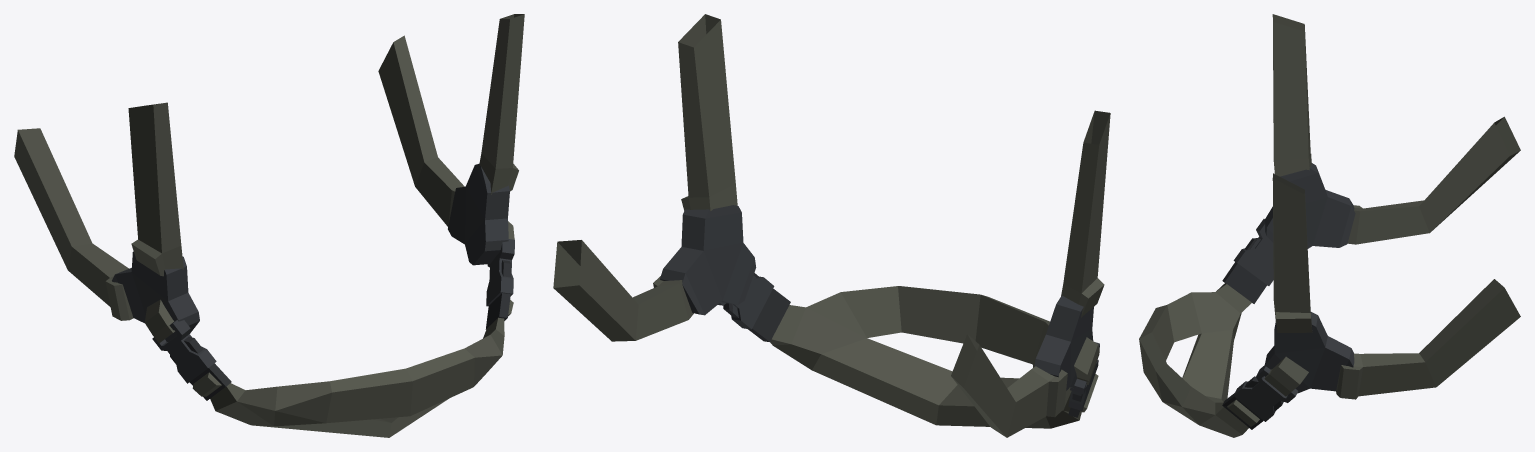
Rendered from SM_Chr_Attach_Chin_Strap_02_Female.fbx.
3 views of the same model, side by side, from view 1: azimuth 30°, elevation 25°; view 2: azimuth 150°, elevation 25°; view 3: azimuth 270°, elevation 25° (orthographic). The views are drawn at different scales.
Visible parts, largest first — view 1: SM_Chr_Attach_Chin_Strap_02_Female; view 2: SM_Chr_Attach_Chin_Strap_02_Female; view 3: SM_Chr_Attach_Chin_Strap_02_Female.
Boxes of the visible parts, x1,y1,x2,y2 form: SM_Chr_Attach_Chin_Strap_02_Female: (14,14,524,437); SM_Chr_Attach_Chin_Strap_02_Female: (553,14,1110,437); SM_Chr_Attach_Chin_Strap_02_Female: (1139,14,1520,437).
Size of the model in its own units: 24.07 by 20.85 by 22.7.
